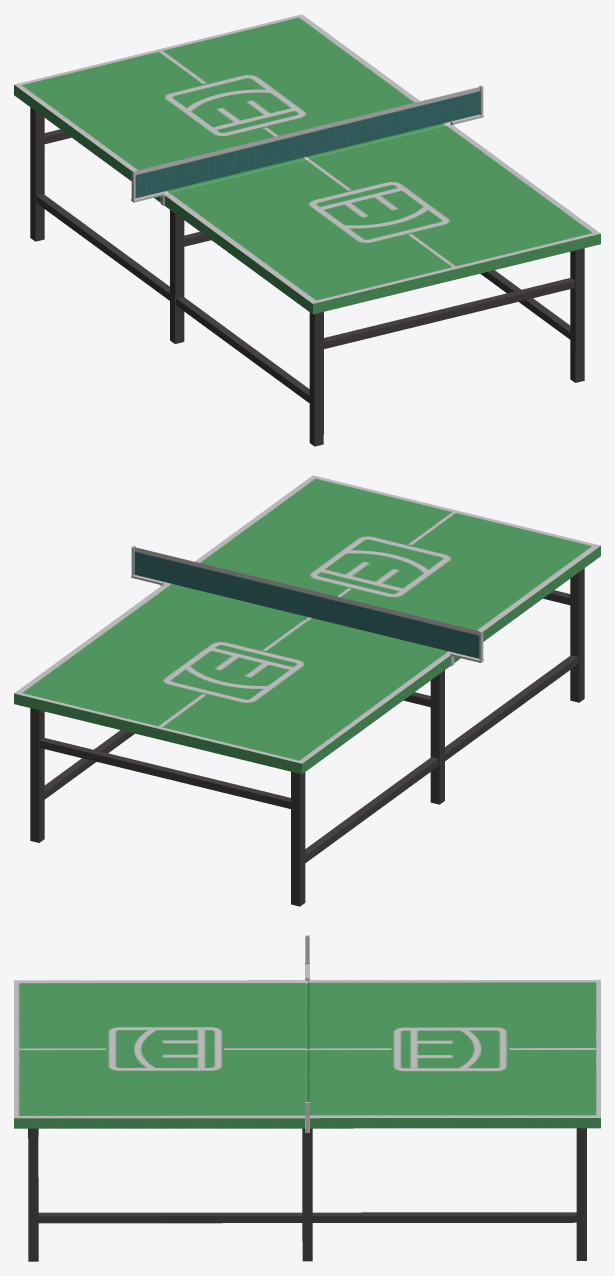
The model's file is ping pong table.glb.
3 renders of one model, top to bottom at view 1: azimuth 30°, elevation 25°; view 2: azimuth 150°, elevation 25°; view 3: azimuth 270°, elevation 25°, orthographic.
Visible parts, largest first — view 1: PingPongTable; view 2: PingPongTable; view 3: PingPongTable.
Boxes of the visible parts, x1,y1,x2,y2 form: PingPongTable: (14,14,600,446); PingPongTable: (14,475,600,906); PingPongTable: (14,935,600,1261).
Size of the model in its own units: 1.85 by 0.9157 by 2.74.
Materials: 1 (1 with a texture image).
